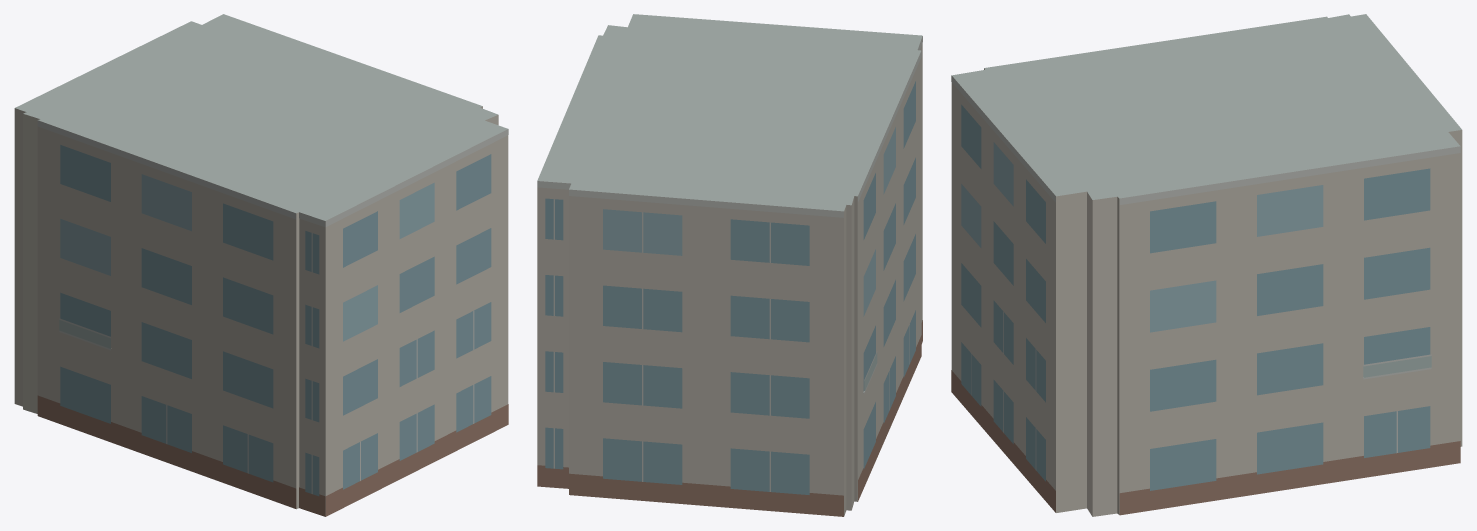
The model's file is survey-upis-32993657.glb.
3 renders of one model, left to right at view 1: azimuth 30°, elevation 25°; view 2: azimuth 150°, elevation 25°; view 3: azimuth 270°, elevation 25°, orthographic. The views are drawn at different scales.
Parts seen in each view (by area): view 1: survey-upis-32993657.tmp; view 2: survey-upis-32993657.tmp; view 3: survey-upis-32993657.tmp.
Boxes of the visible parts, x1,y1,x2,y2 form: survey-upis-32993657.tmp: (14,14,508,516); survey-upis-32993657.tmp: (537,14,922,516); survey-upis-32993657.tmp: (951,14,1462,516).
Size of the model in its own units: 14.53 by 11.53 by 16.86.
